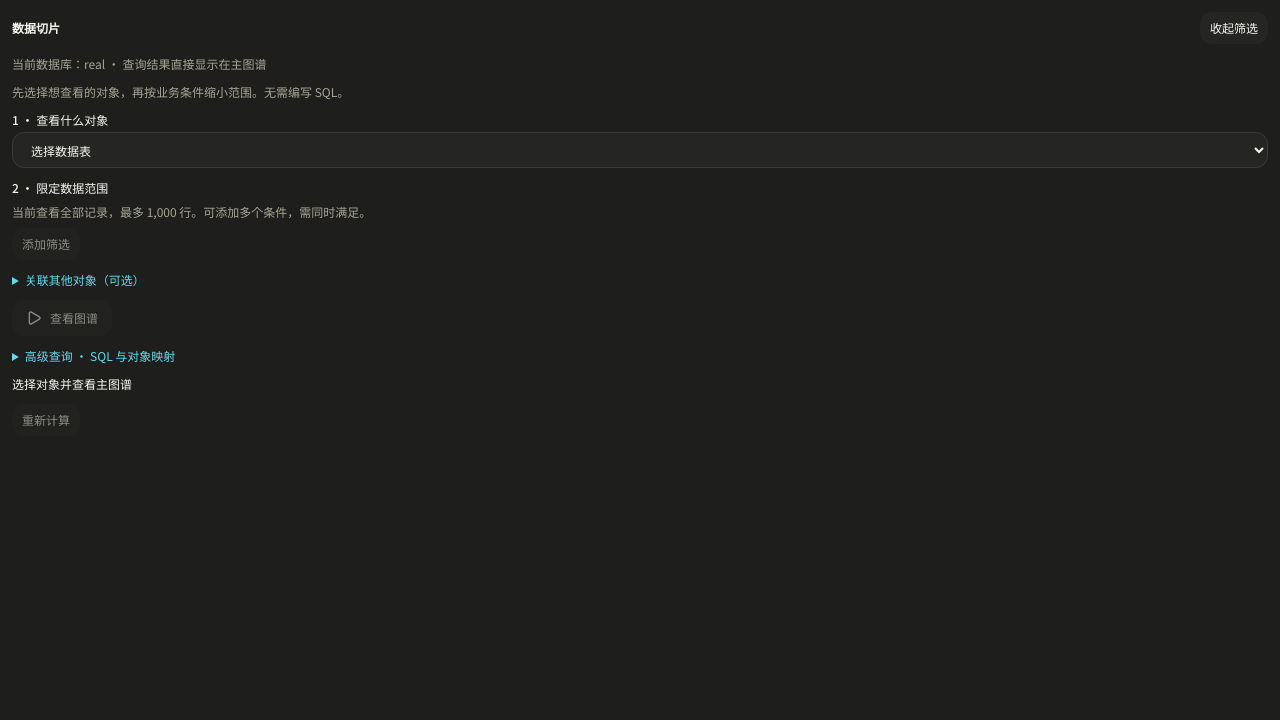
Test: blocks invalid identities before publishing a graph
Select "main.payments" in the dropdown named "切片来源表" at (640, 150), box [12, 132, 1268, 168]
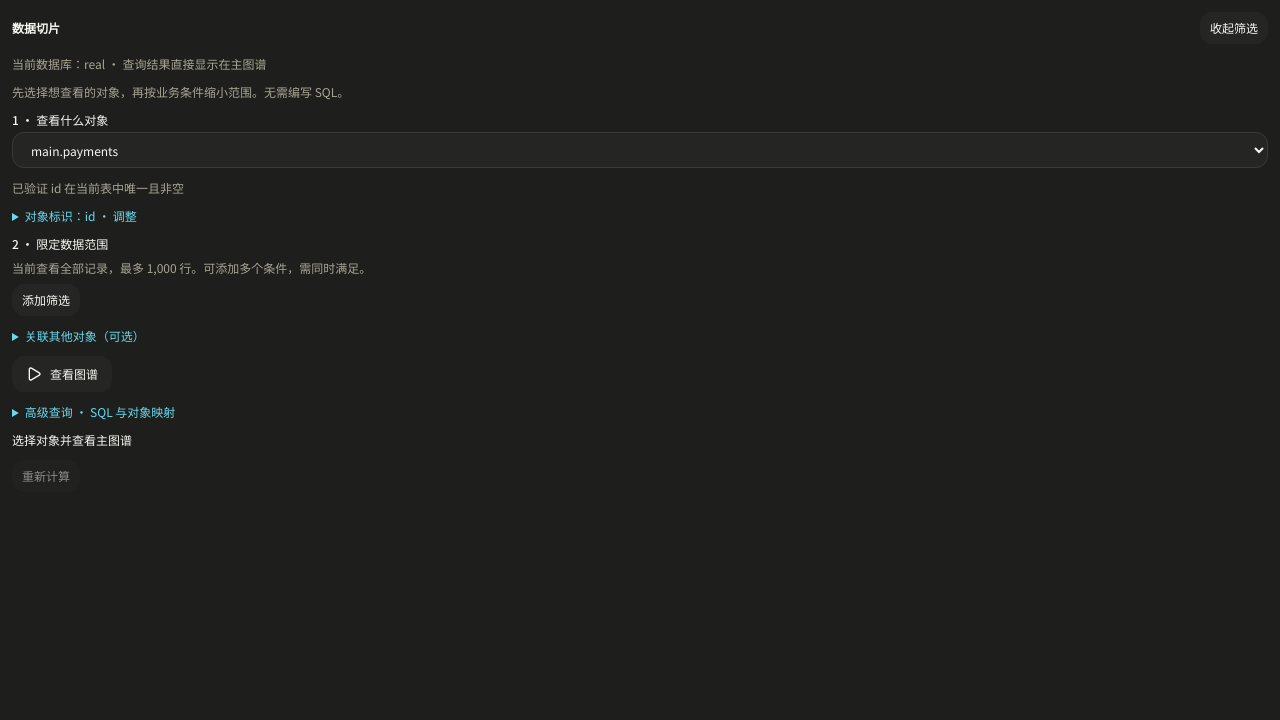
Click the button "查看图谱".
click(62, 374)  # box [12, 356, 112, 392]
Wait 451 ms
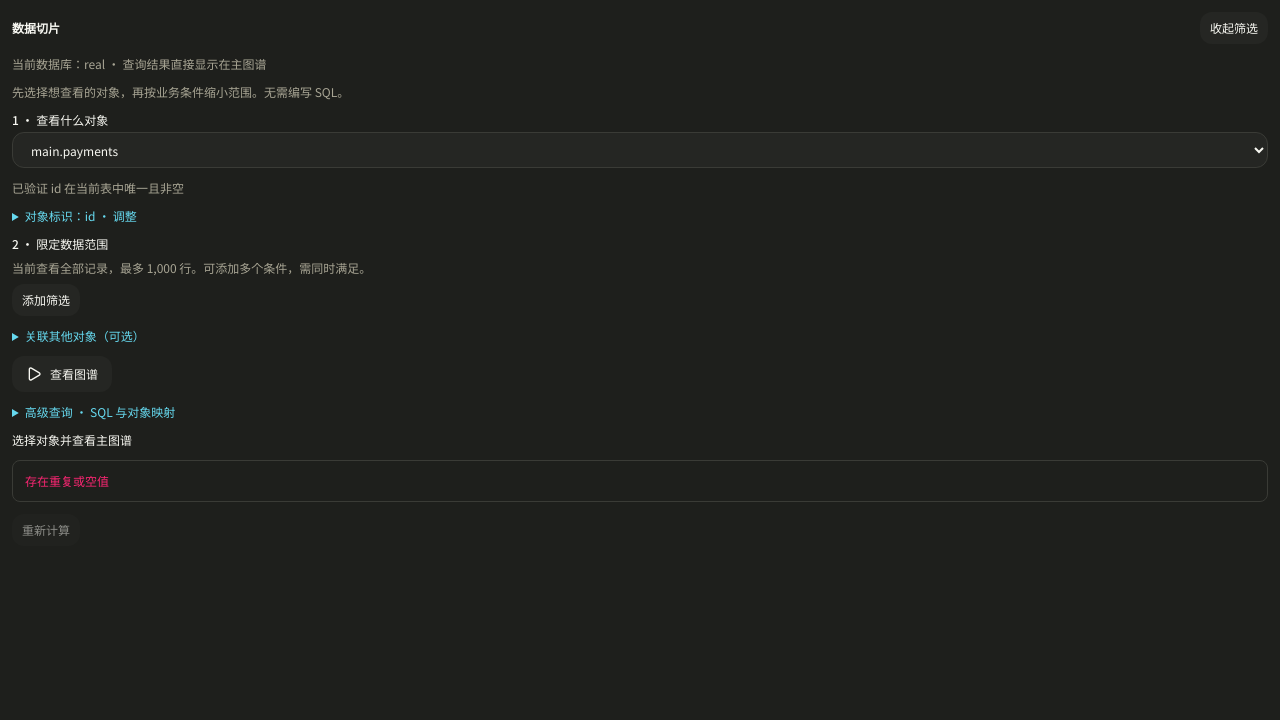
Now the message "存在重复或空值" is shown, box [12, 460, 1268, 502]
